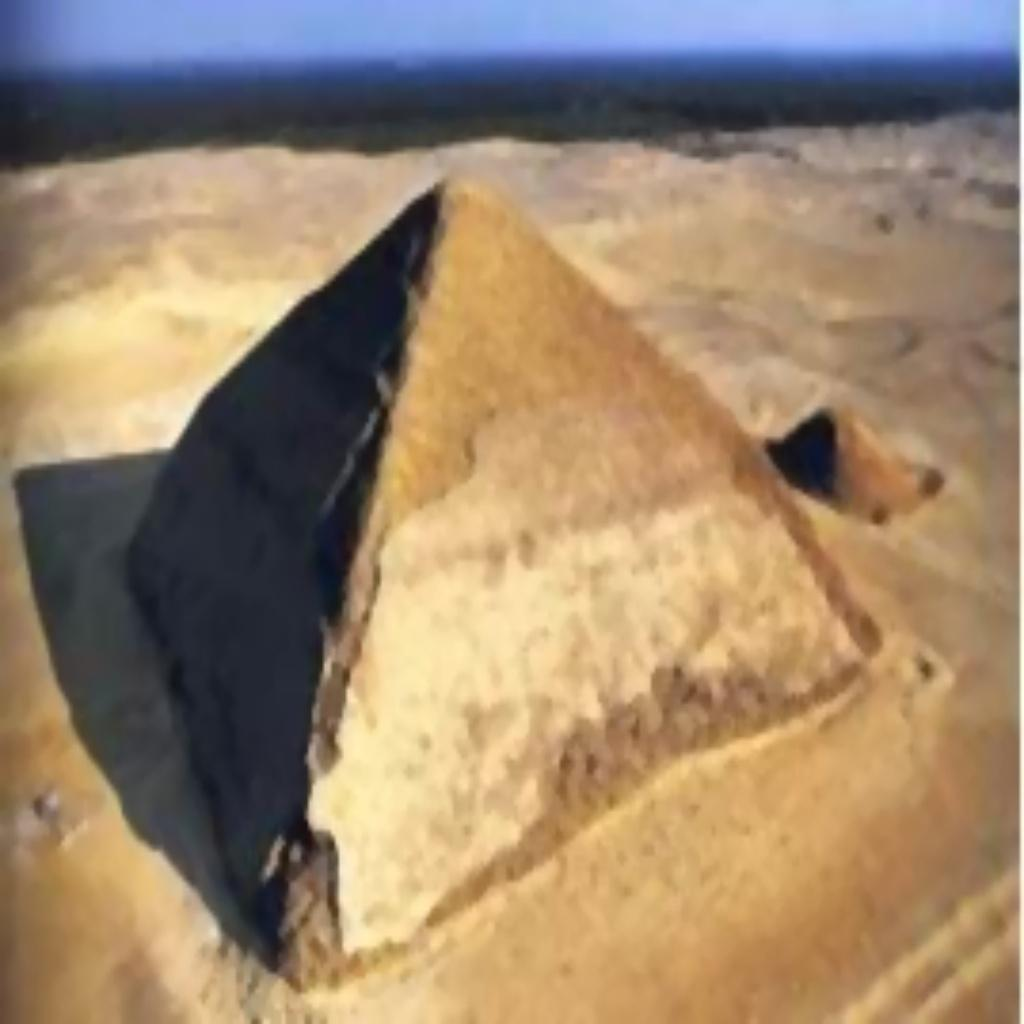Bent Pyramid of King Sneferu: (126, 169, 870, 981)
